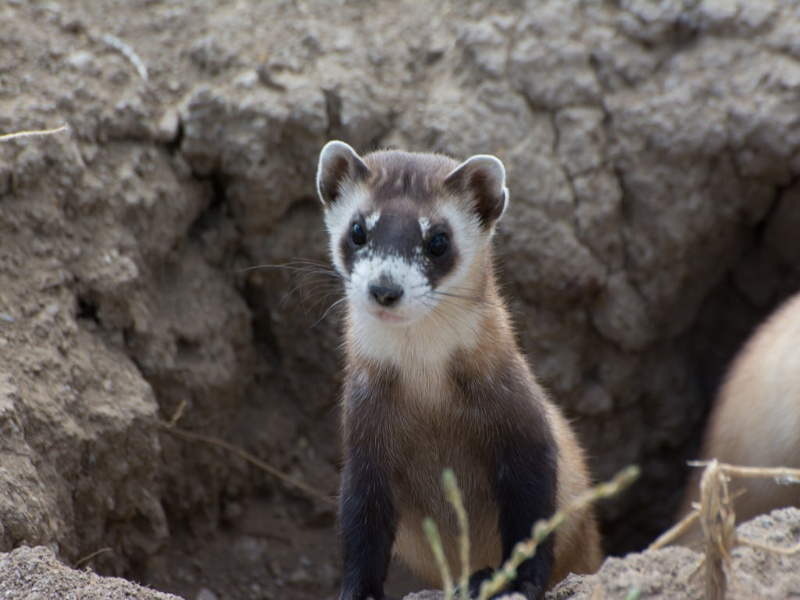minkish: (301, 135, 608, 600)
